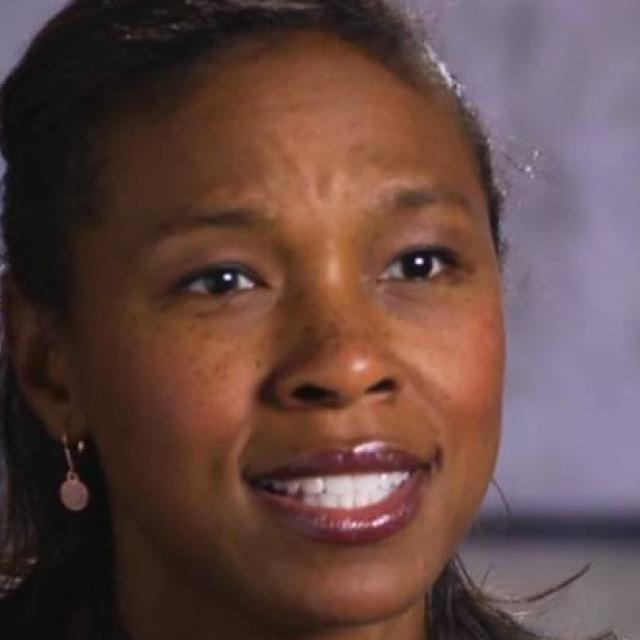Normal: (72, 26, 504, 628)
